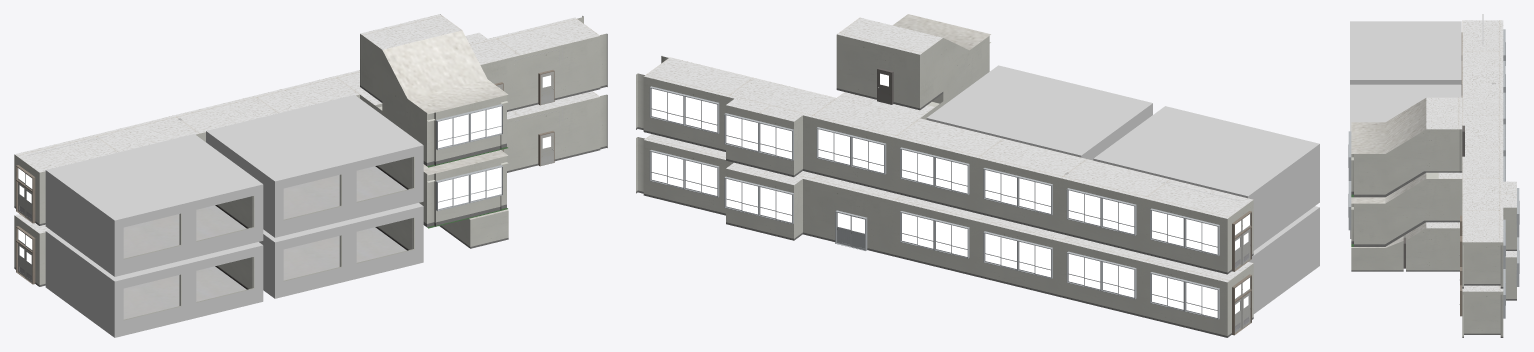
Rendered from SchoolCorridors.gltf.
3 renders of one model, left to right at view 1: azimuth 30°, elevation 25°; view 2: azimuth 150°, elevation 25°; view 3: azimuth 270°, elevation 25°, orthographic. The views are drawn at different scales.
Visible parts, largest first — view 1: classroom02_shadow_3, classroom02_shadow_2, classroom02_shadow_1, ceiling_stair_top, classroom02_shadow, wall_stairs_top, wall_restroom_1, wall_restroom, wall_stairs_bottom_B, ceiling_A_2, ceiling_A_3, ceiling_restroom_1 (+16 smaller); view 2: classroom02_shadow_3, classroom02_shadow_2, wall_restroom_window_1, wall_restroom_window, corridor_wall_A_window_3, corridor_wall_A_window_1, corridor_wall_A_window, corridor_wall_A_window_2, ceiling_restroom_1, ceiling_A_2, ceiling_A_3, classroom02_shadow_1 (+31 smaller); view 3: wall_stairs_bottom_B, classroom02_shadow_3, wall_stairs_top, ceiling_stair_top, ceiling_restroom_1, classroom02_shadow_2, ceiling_A_3, ceiling_A_2, corridor_wall_end_A1__4_, corridor_wall_end_A1__5_, ceiling_C_1, stairs_top (+14 smaller).
Part boxes in pixels (box(x1,y1,x2,y2)): classroom02_shadow_3: box(45, 134, 263, 276); classroom02_shadow_2: box(206, 95, 423, 237); classroom02_shadow_1: box(45, 230, 263, 337); ceiling_stair_top: box(360, 14, 508, 114); classroom02_shadow: box(259, 203, 423, 298); wall_stairs_top: box(360, 35, 507, 166); wall_restroom_1: box(480, 36, 600, 111); wall_restroom: box(503, 97, 600, 172); wall_stairs_bottom_B: box(419, 156, 508, 248); ceiling_A_2: box(175, 76, 359, 133); ceiling_A_3: box(15, 115, 199, 172); ceiling_restroom_1: box(465, 17, 599, 64); classroom02_shadow_3: box(1093, 106, 1319, 250); classroom02_shadow_2: box(926, 65, 1152, 160); wall_restroom_window_1: box(643, 76, 810, 176); wall_restroom_window: box(643, 140, 810, 240); corridor_wall_A_window_3: box(1060, 178, 1227, 274); corridor_wall_A_window_1: box(1060, 242, 1227, 337); corridor_wall_A_window: box(894, 201, 1060, 297); corridor_wall_A_window_2: box(894, 137, 1060, 233); ceiling_restroom_1: box(644, 57, 835, 121); ceiling_A_2: box(894, 118, 1086, 177); ceiling_A_3: box(1061, 159, 1253, 218); classroom02_shadow_1: box(1248, 206, 1319, 313); wall_stairs_bottom_B: box(1351, 179, 1462, 271); classroom02_shadow_3: box(1350, 21, 1461, 84); wall_stairs_top: box(1351, 129, 1459, 197); ceiling_stair_top: box(1351, 97, 1462, 178); ceiling_restroom_1: box(1462, 179, 1516, 242); classroom02_shadow_2: box(1350, 84, 1461, 131); ceiling_A_3: box(1462, 20, 1503, 83); ceiling_A_2: box(1462, 83, 1503, 146); corridor_wall_end_A1__4_: box(1462, 242, 1503, 285); corridor_wall_end_A1__5_: box(1462, 291, 1503, 334); ceiling_C_1: box(1462, 147, 1503, 178); stairs_top: box(1351, 172, 1438, 203).
Size of the model in its own units: 39.18 by 11.6 by 12.54.
37 materials, 31 textured.
